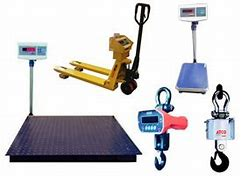Industrial Scale: (4, 40, 143, 168), (137, 86, 189, 173), (174, 1, 210, 96), (204, 84, 236, 173)
Pallet Jack: (53, 2, 152, 96)
